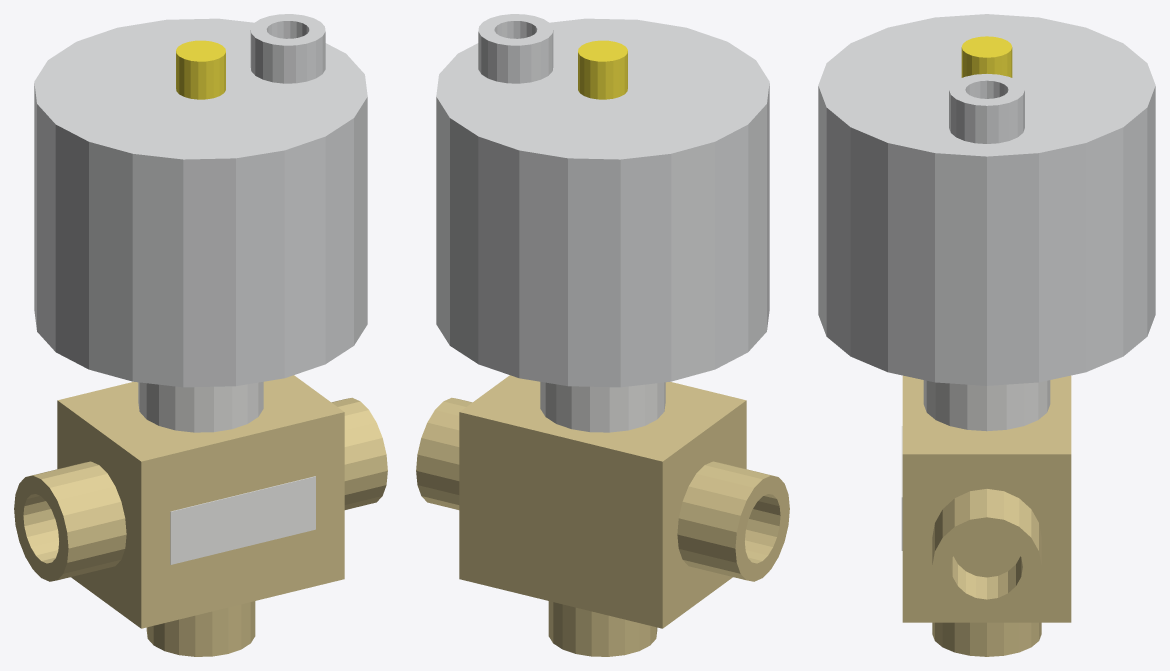
The model's file is control-valve-32-mix.glb.
3 views of the same model, side by side, from view 1: azimuth 30°, elevation 25°; view 2: azimuth 150°, elevation 25°; view 3: azimuth 270°, elevation 25° (orthographic).
Parts seen in each view (by area): view 1: body, port-a, port-12, port-b, port-ab, stem; view 2: body, port-a, port-12, port-b, port-ab, stem; view 3: body, port-ab, port-12, port-b, stem.
Boxes of the visible parts, left/top/right/bottom form: body: left=34, top=18, right=367, bottom=628; port-a: left=14, top=461, right=126, bottom=581; port-12: left=250, top=14, right=325, bottom=83; port-b: left=146, top=601, right=255, bottom=656; port-ab: left=331, top=397, right=387, bottom=509; stem: left=176, top=40, right=225, bottom=99; body: left=436, top=18, right=769, bottom=628; port-a: left=677, top=461, right=789, bottom=581; port-12: left=478, top=14, right=553, bottom=83; port-b: left=548, top=601, right=657, bottom=656; port-ab: left=416, top=397, right=472, bottom=509; stem: left=578, top=40, right=627, bottom=99; body: left=818, top=14, right=1155, bottom=622; port-ab: left=932, top=489, right=1041, bottom=616; port-12: left=949, top=74, right=1024, bottom=143; port-b: left=932, top=622, right=1041, bottom=656; stem: left=961, top=36, right=1012, bottom=77.
Size of what is drawn, in the model's own units: 0.088 by 0.1535 by 0.08.
